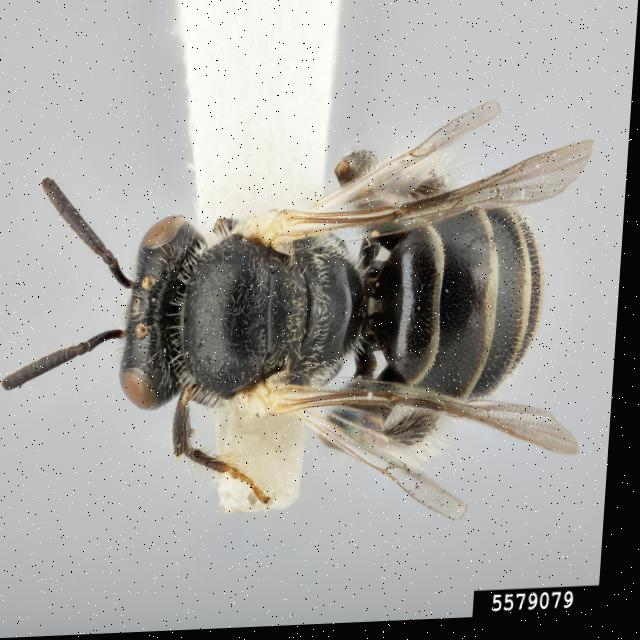Braunsapis: (0, 116, 607, 548)
